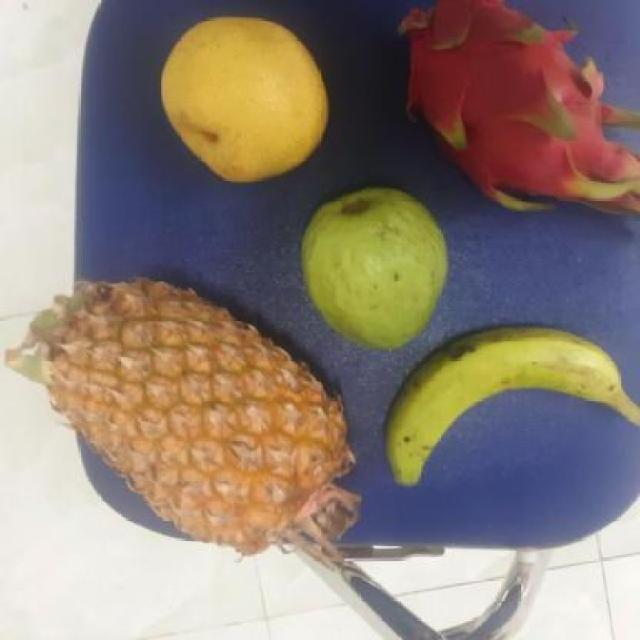banana: (376, 328, 619, 485)
dragon fruit: (380, 1, 640, 227)
guava: (289, 185, 453, 353)
pear: (156, 13, 330, 189)
pineapple: (33, 280, 352, 546)
